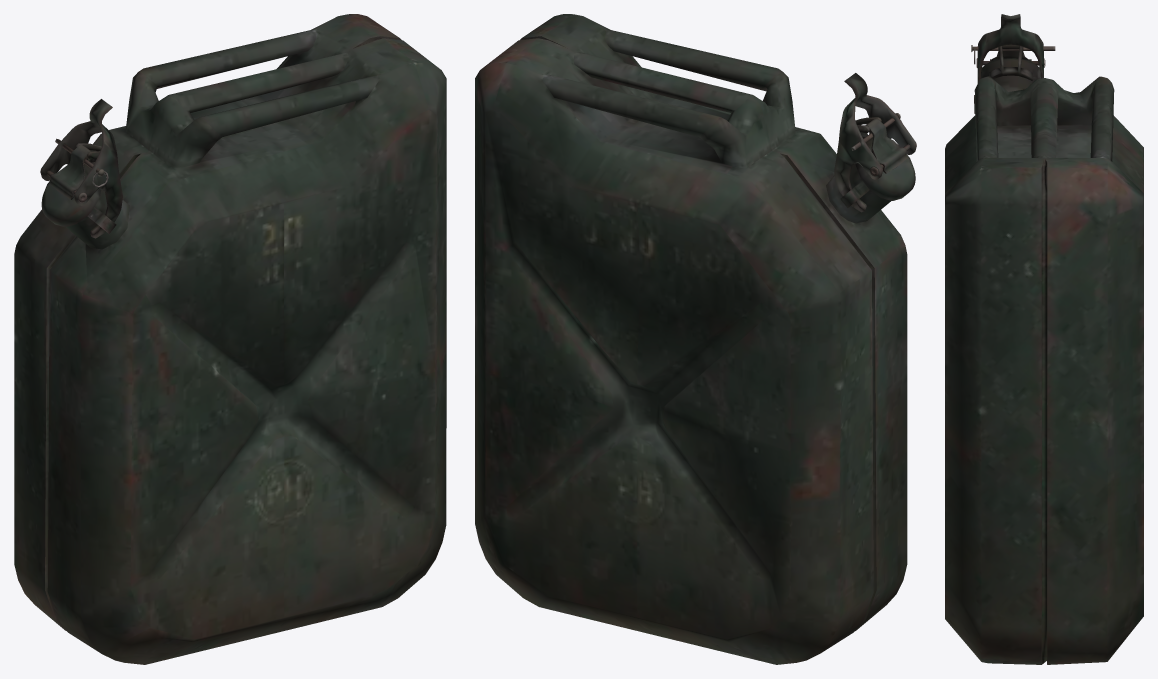
The model's file is metal_jerrycan_green.glb.
3 views of the same model, side by side, from view 1: azimuth 30°, elevation 25°; view 2: azimuth 150°, elevation 25°; view 3: azimuth 270°, elevation 25° (orthographic). The views are drawn at different scales.
Visible parts, largest first — view 1: metal_jerrycan_green_body, metal_jerrycan_green_latch, metal_jerrycan_green_cap; view 2: metal_jerrycan_green_body, metal_jerrycan_green_latch, metal_jerrycan_green_cap; view 3: metal_jerrycan_green_body, metal_jerrycan_green_latch, metal_jerrycan_green_cap, metal_jerrycan_green_fastener.
Part boxes in pixels (box(x1,y1,x2,y2)): metal_jerrycan_green_body: box(14, 14, 446, 664); metal_jerrycan_green_latch: box(40, 99, 122, 238); metal_jerrycan_green_cap: box(41, 144, 101, 227); metal_jerrycan_green_body: box(475, 14, 907, 664); metal_jerrycan_green_latch: box(834, 73, 916, 212); metal_jerrycan_green_cap: box(855, 118, 915, 200); metal_jerrycan_green_body: box(945, 75, 1143, 664); metal_jerrycan_green_latch: box(976, 14, 1045, 83); metal_jerrycan_green_cap: box(980, 44, 1040, 79); metal_jerrycan_green_fastener: box(989, 46, 1032, 80).
Size of the model in its own units: 0.3604 by 0.4998 by 0.1709.
1 material, 1 textured.
